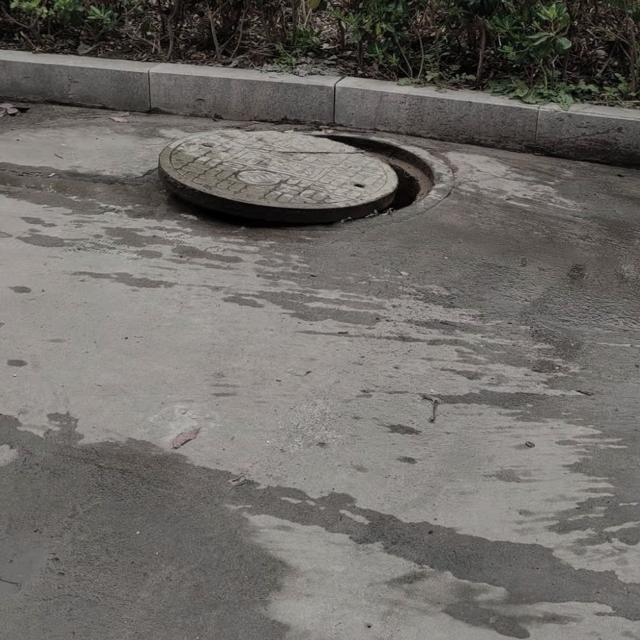uncovered: (154, 122, 457, 234)
